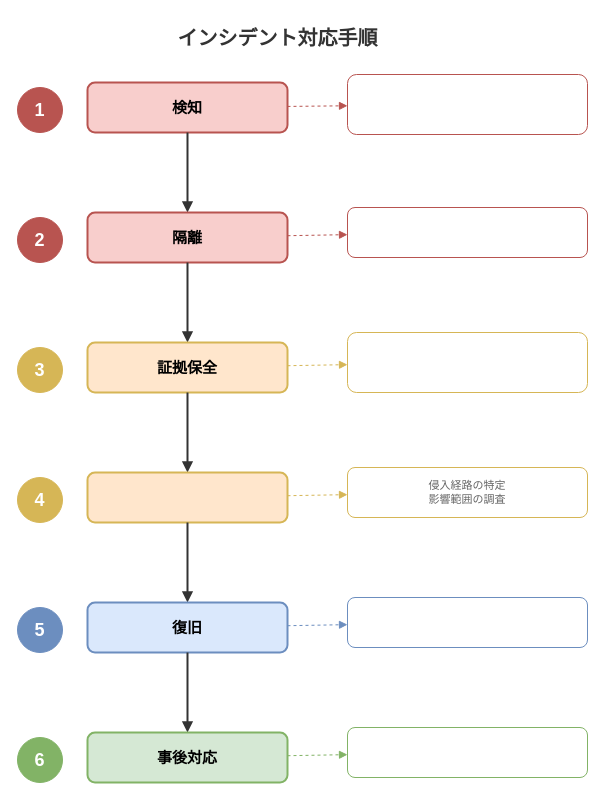
This 605x800 diagram has some shape labels left out. Here are the shapes that lost their labels. From the top down, the centre of each, then its label:
At point (467, 104): "異常なプロセス ネットワーク通信 リソース使用".
At point (467, 232): "ネットワークから切断 docker pause で一時停止".
At point (467, 362): "docker export docker logs docker inspect".
At point (187, 497): "分析".
At point (467, 622): "安全なイメージから再デプロイ シークレットのローテーション".
At point (467, 752): "根本原因の修正 再発防止策の実施".
